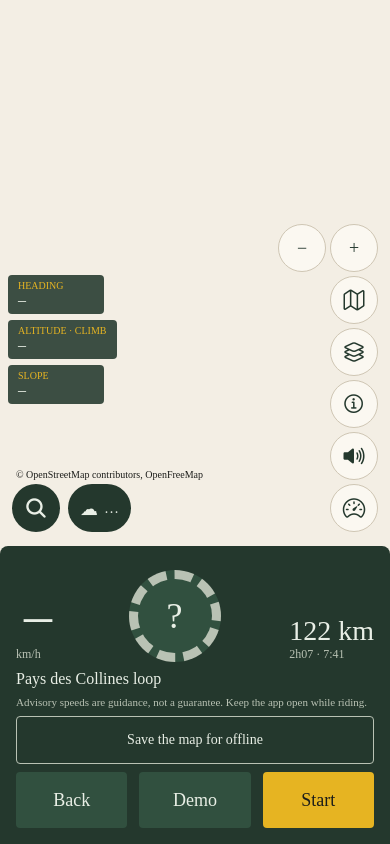
it: Fuel in the list opens the fuel stops
The width and height of the screenshot is (390, 844).
What coordinates should you click on to do the following:
click the button with test id "places-chip"
I would click on:
 (36, 508)
Its box is [12,484,60,532].
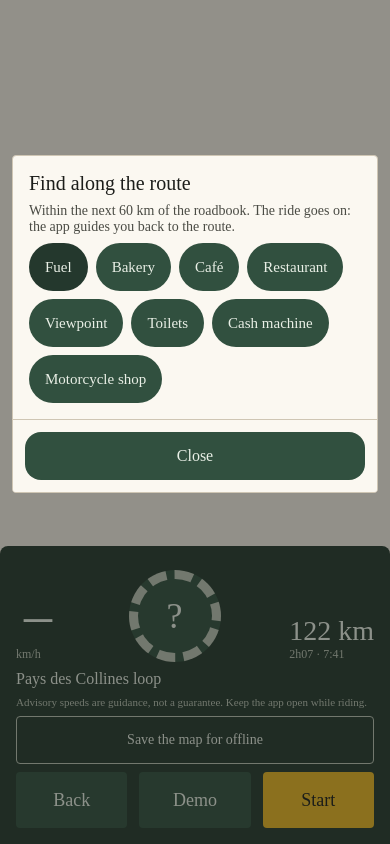
What coordinates should you click on to do the following:
click the button with aria-label "Look for: Fuel"
I would click on:
 (58, 267)
Its box is [29,243,88,291].
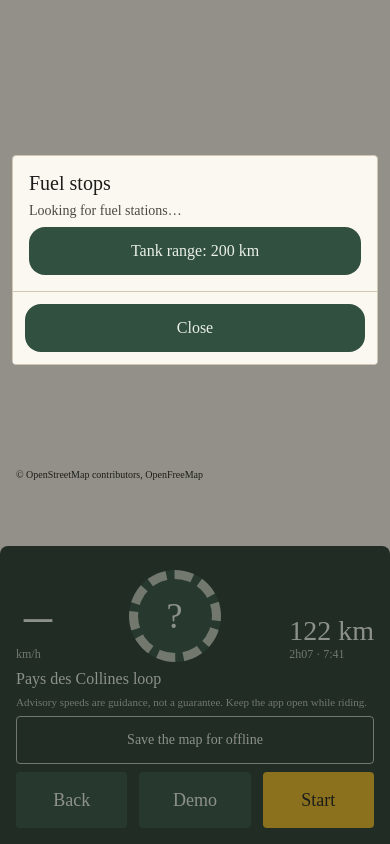
Now the text "Fuel stops" is shown, box [29,172,111,194]
